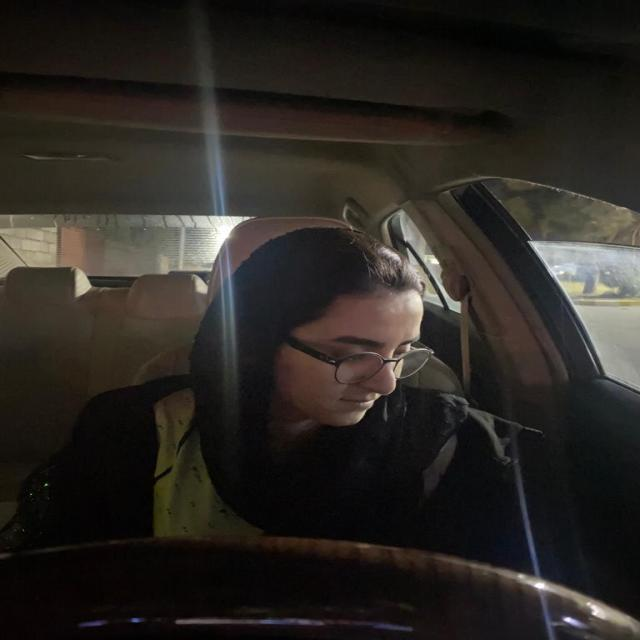drowsy: (244, 242, 429, 440)
